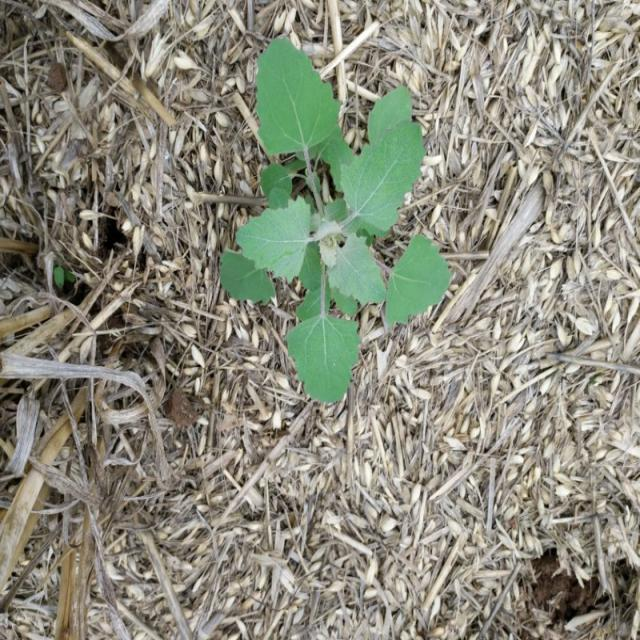goosefoots: (216, 27, 446, 396)
